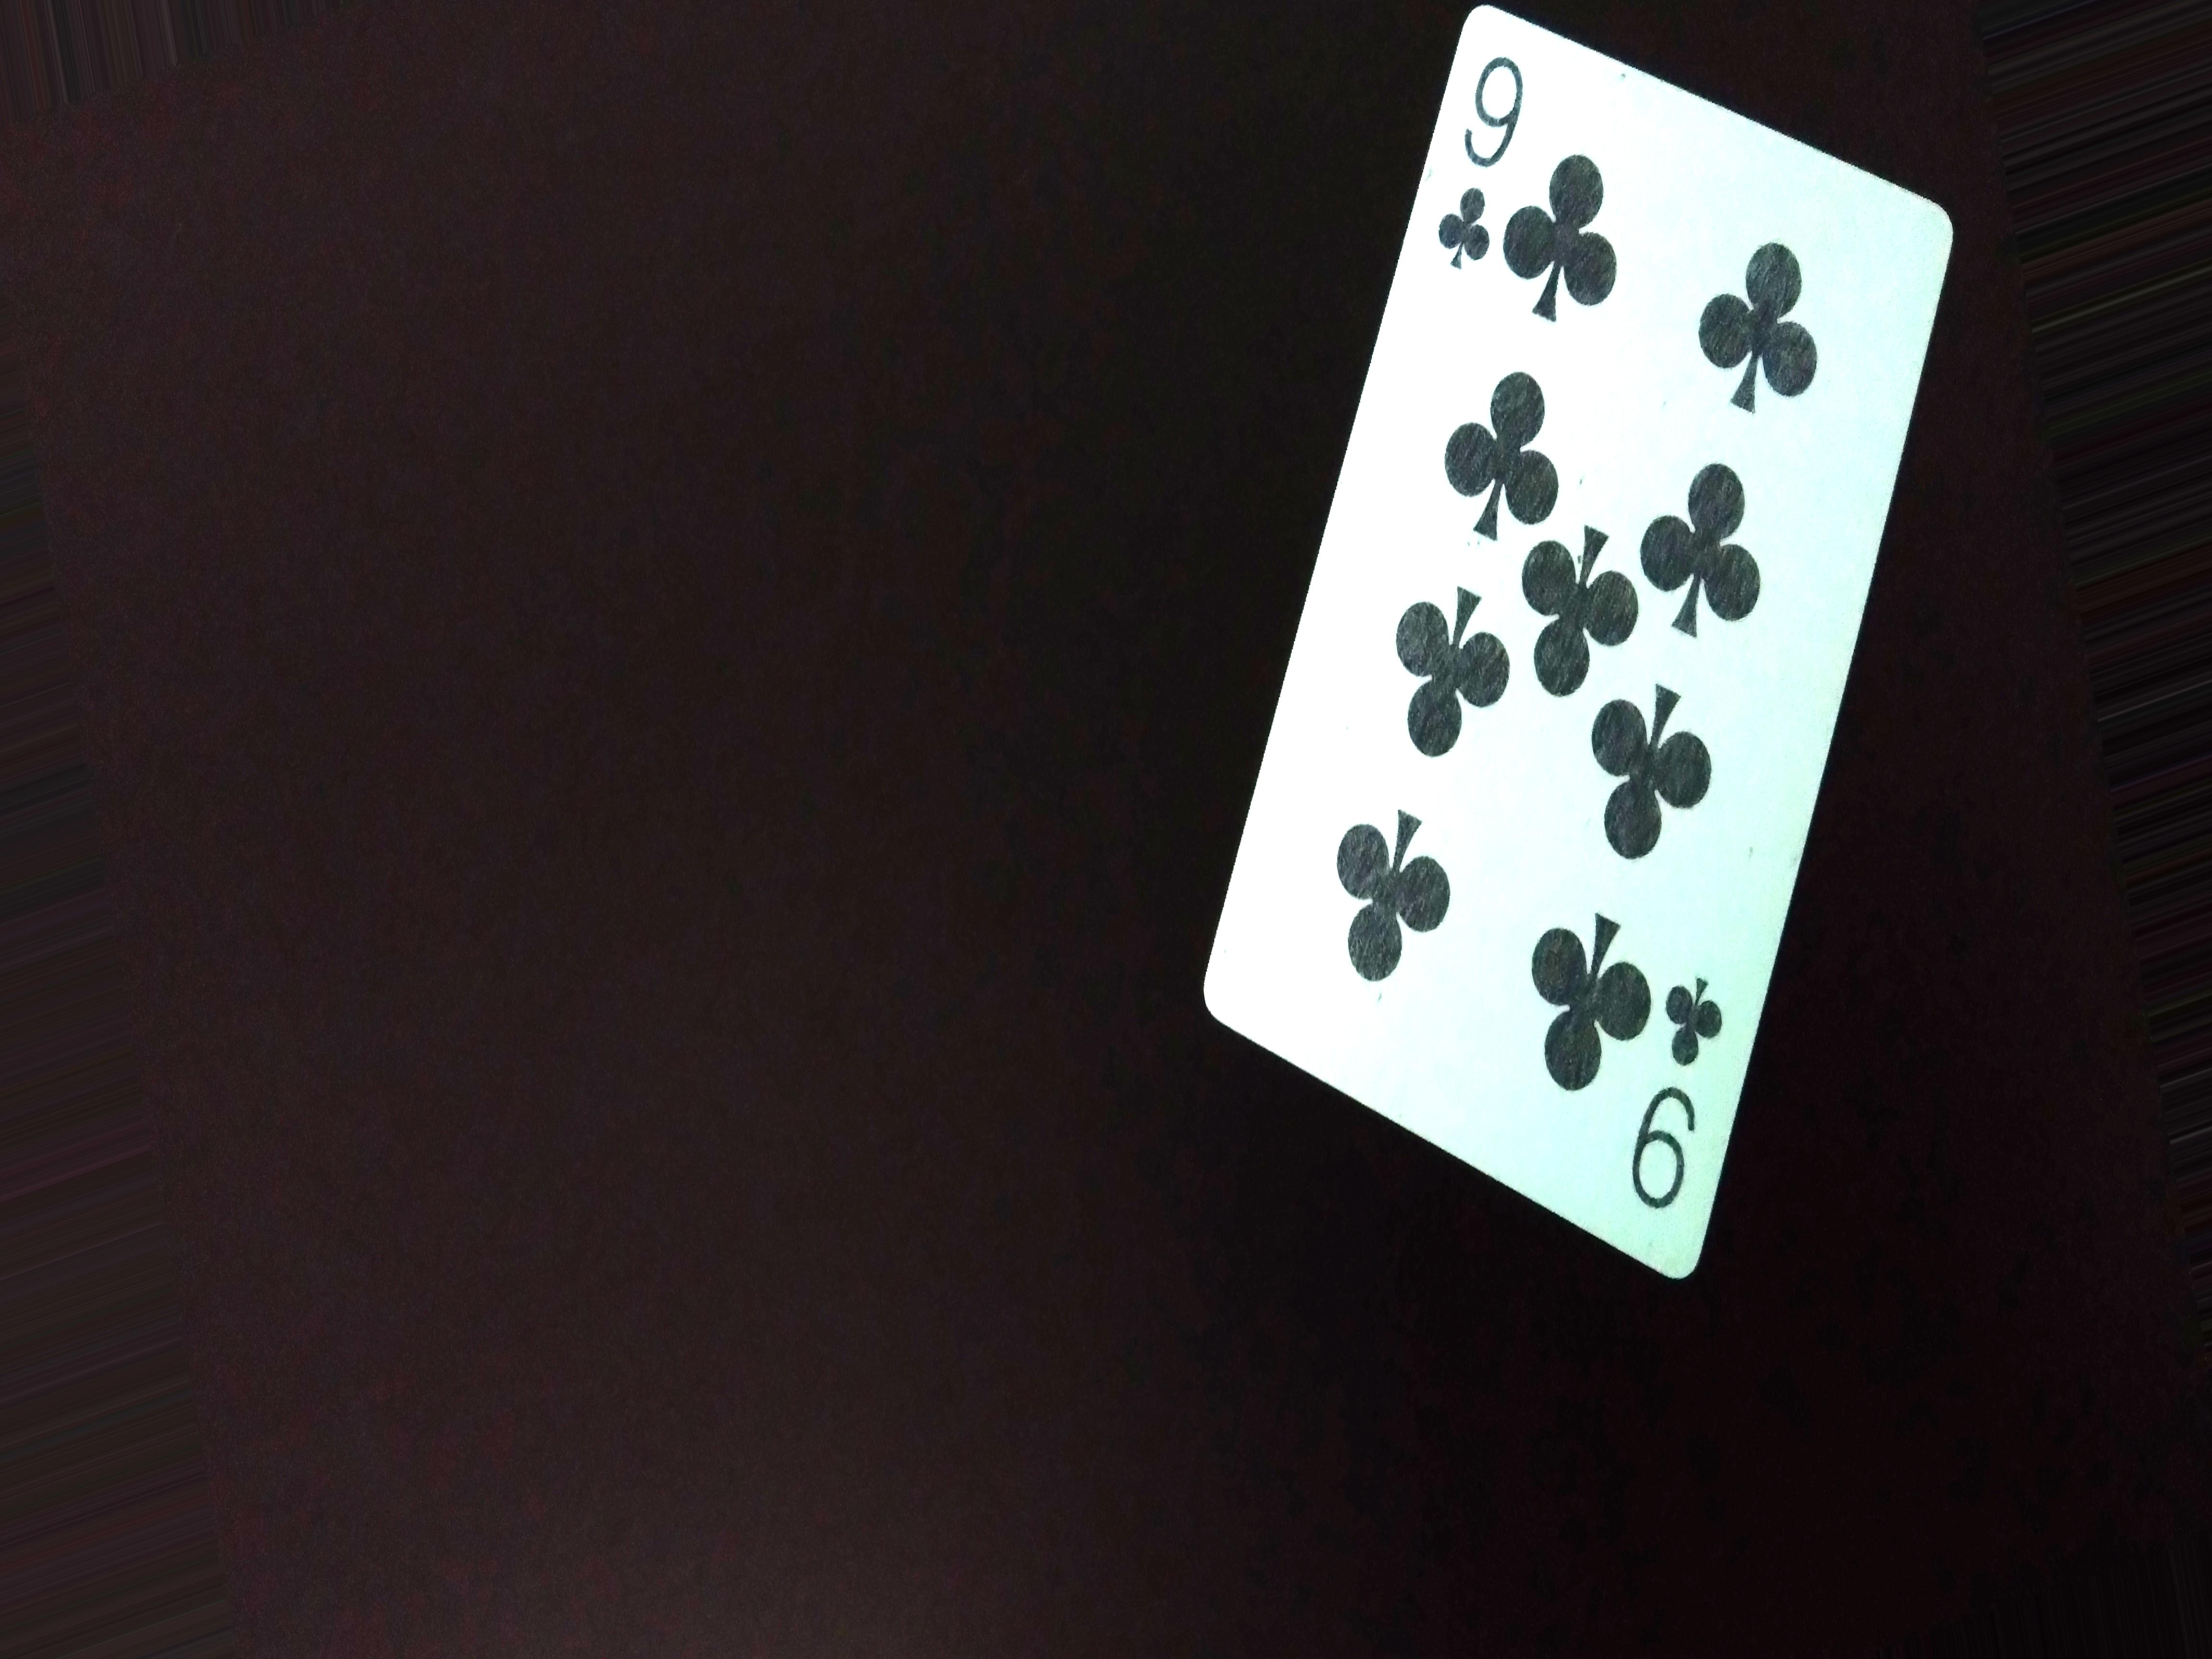9C: (1629, 969, 1731, 1225)
